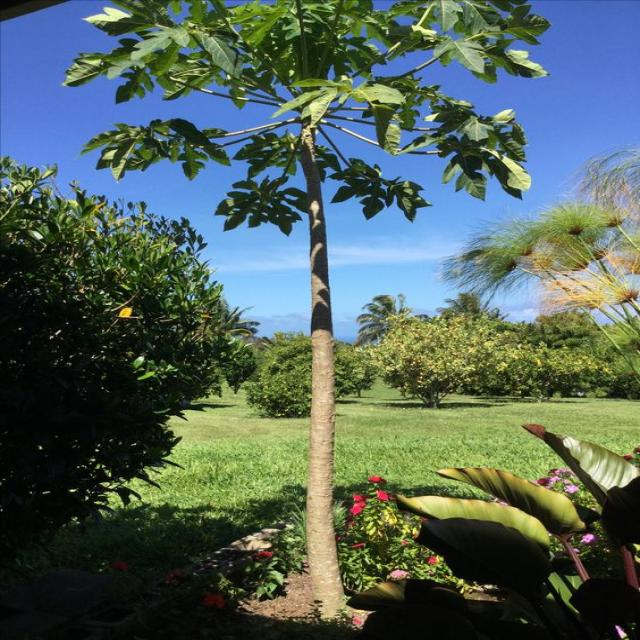Papaya-Tree: (117, 4, 474, 599)
